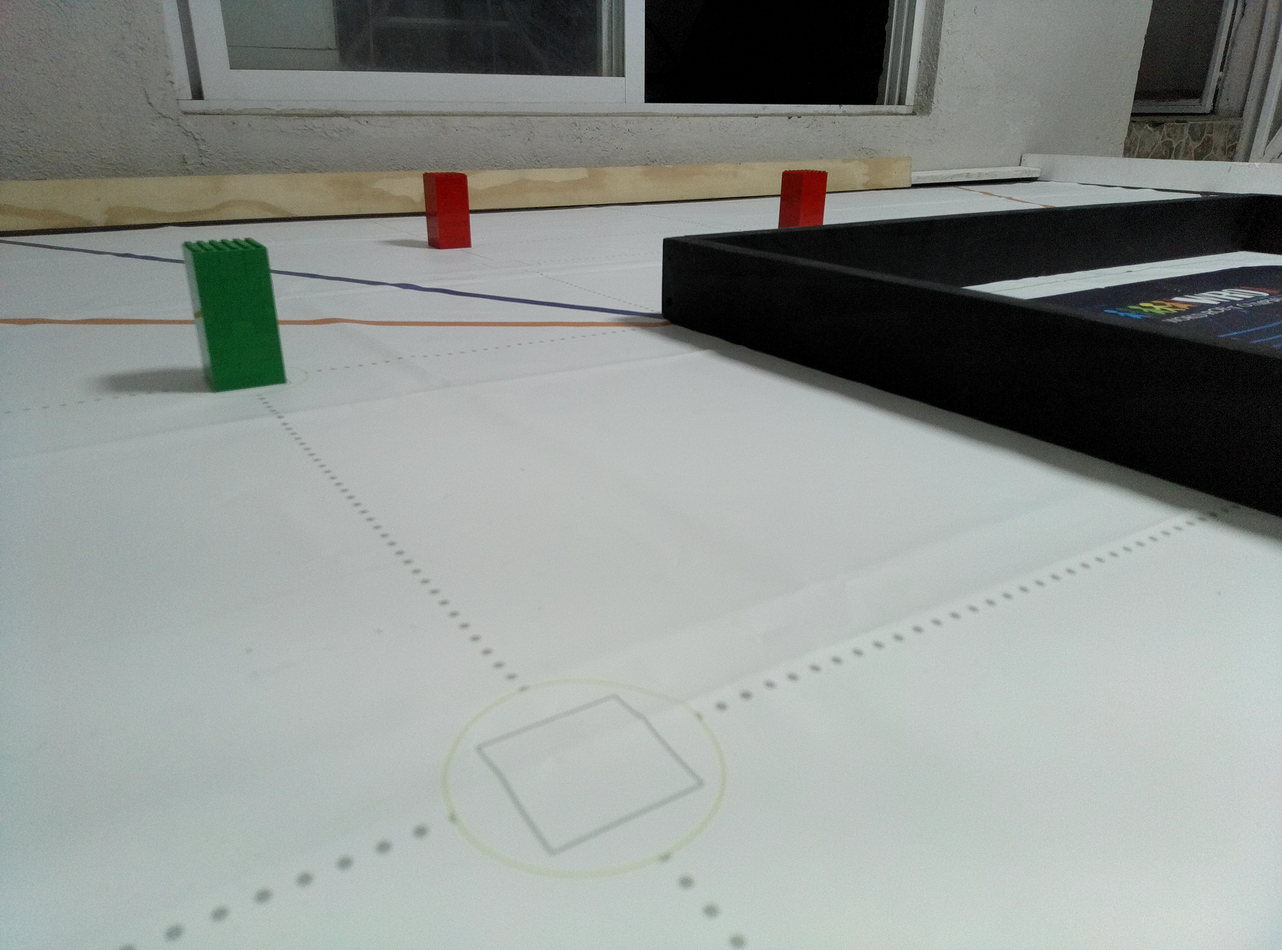greenbox: (178, 237, 287, 393)
redbox: (423, 171, 472, 249), (778, 169, 828, 228)
